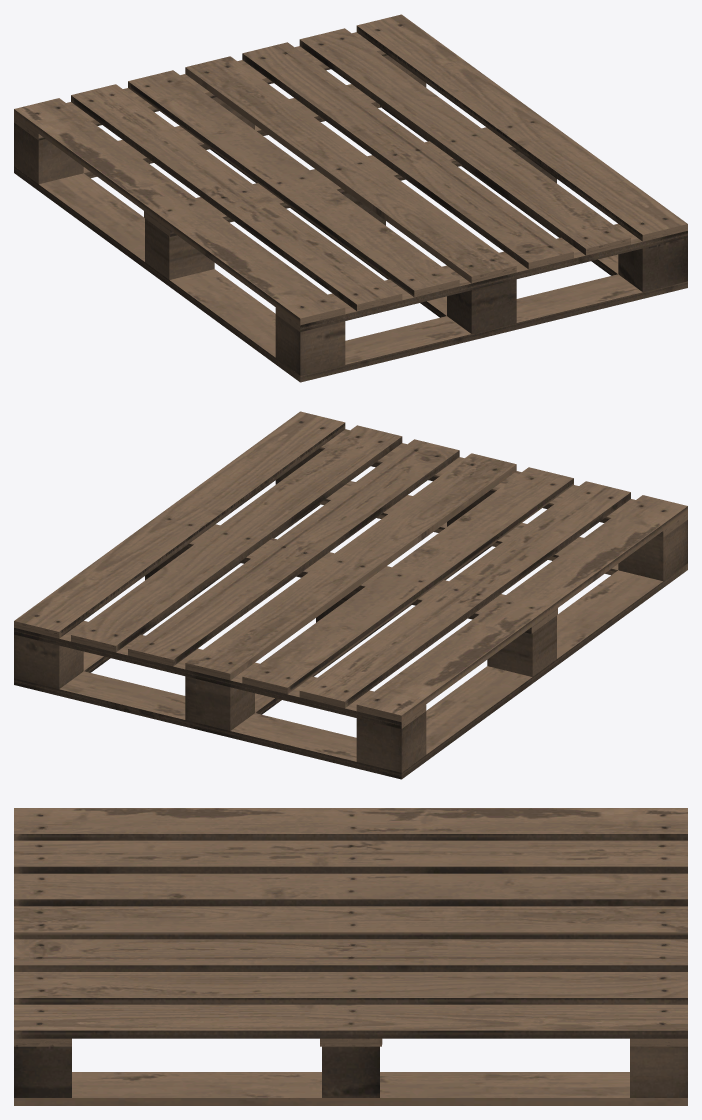
File: Board.FBX
3 renders of one model, top to bottom at view 1: azimuth 30°, elevation 25°; view 2: azimuth 150°, elevation 25°; view 3: azimuth 270°, elevation 25°, orthographic. The views are drawn at different scales.
Parts seen in each view (by area): view 1: Board; view 2: Board; view 3: Board.
Part boxes in pixels (x1=…): Board: x1=14, y1=14, x2=687, y2=382; Board: x1=14, y1=411, x2=687, y2=779; Board: x1=14, y1=808, x2=687, y2=1105.
Size of the model in its own units: 0.7724 by 0.1217 by 0.988.
Materials: 1 (1 with a texture image).
